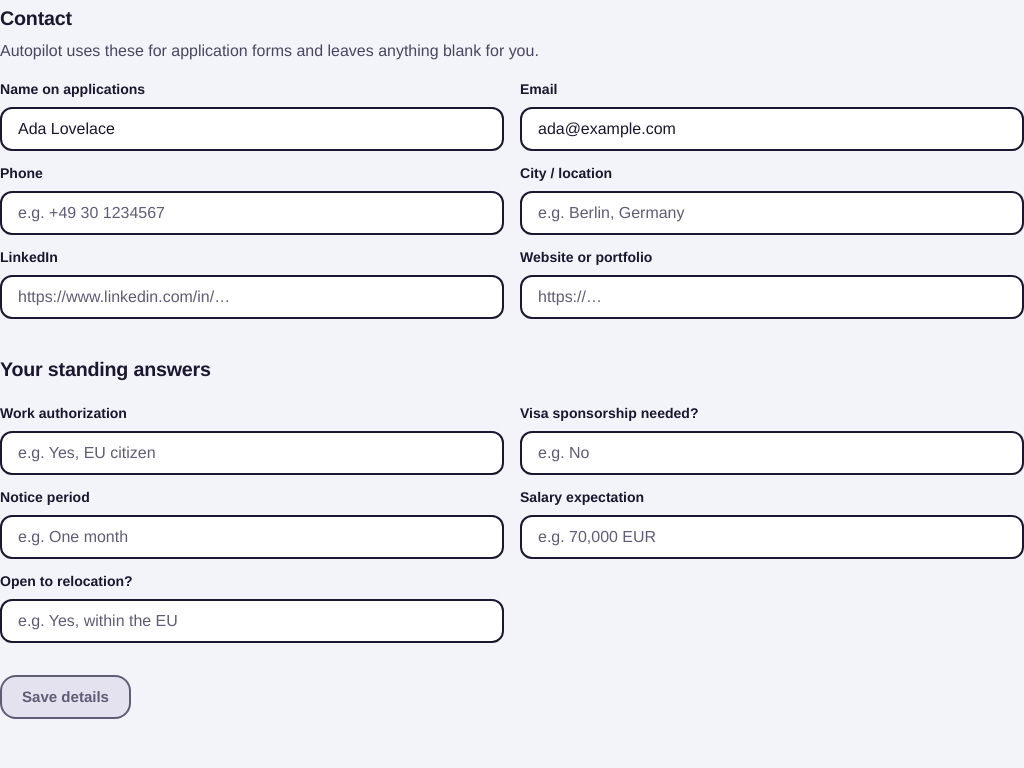
it: Application details card › says so when saving fails
This screenshot has width=1024, height=768.
# A phone the server accepts (5+ digits): '123' is now named under the field before any request (AA-F05).
Type "+44 20 7946 0958" into the field labelled "Phone" at [252, 212], box [18,192,486,232]
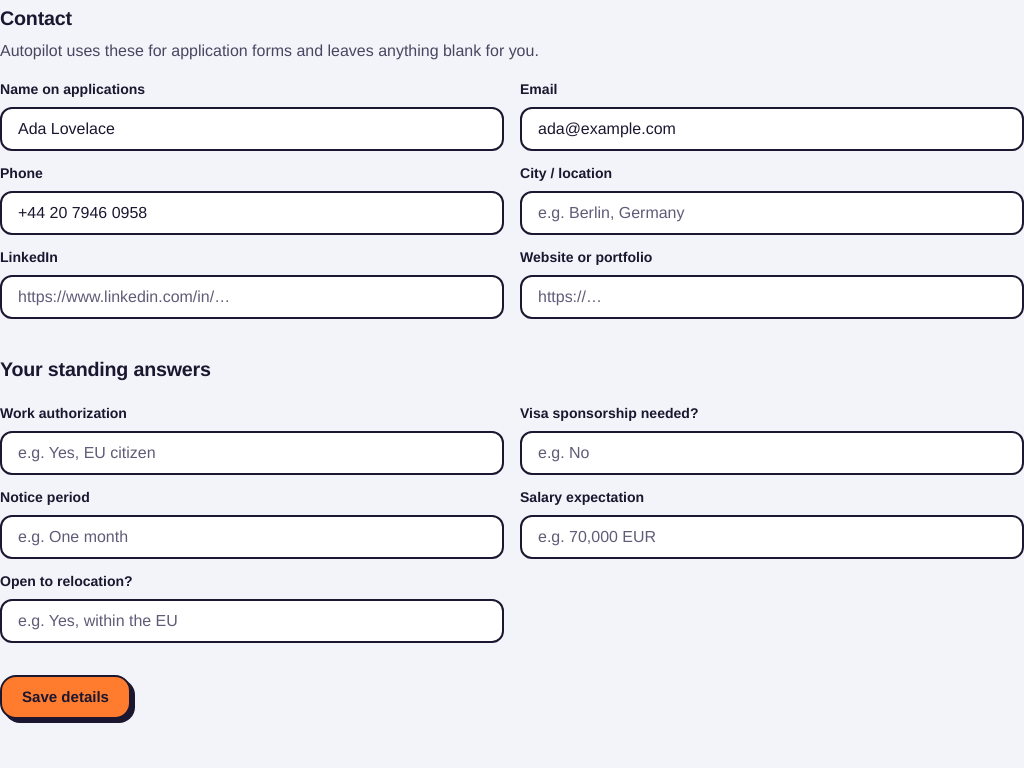
Click the button "Save details" at [66, 696], box [0,674,131,718]
(page scrolled)
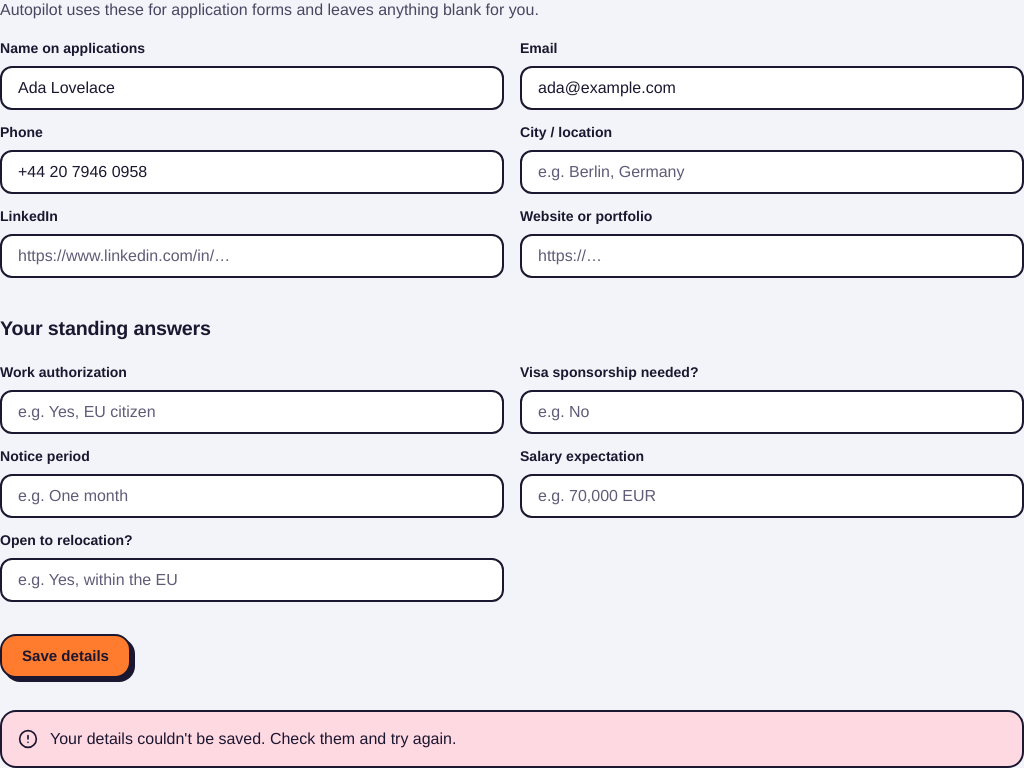
Expected: the text "Your details couldn't be saved. Check them and try again." is shown, [0,710,1023,767]
